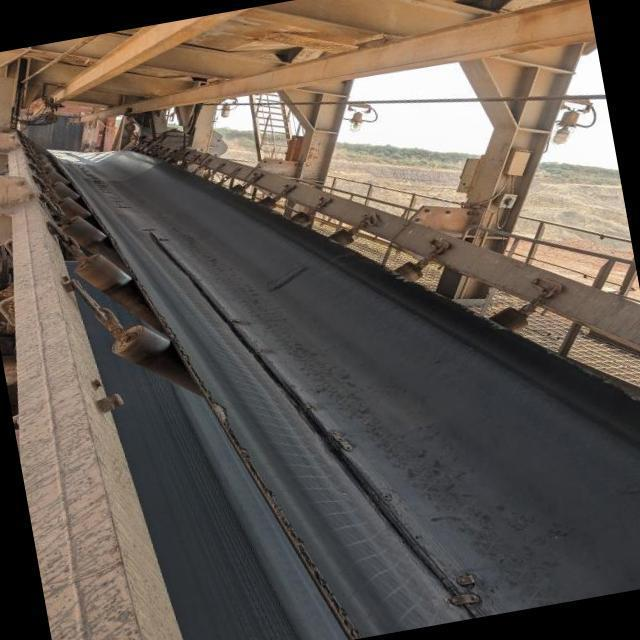Tear: (138, 216, 483, 624)
